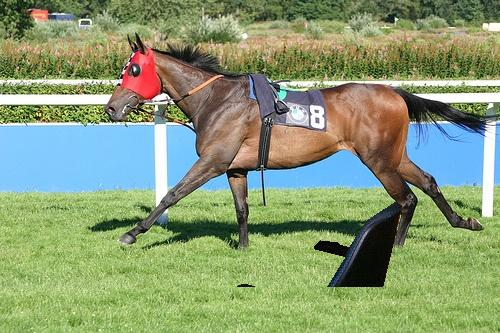tampered: (237, 203, 402, 287)
